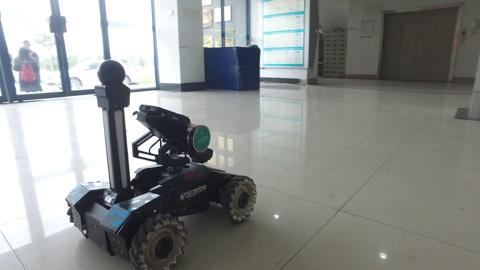chariot: (51, 56, 271, 270)
